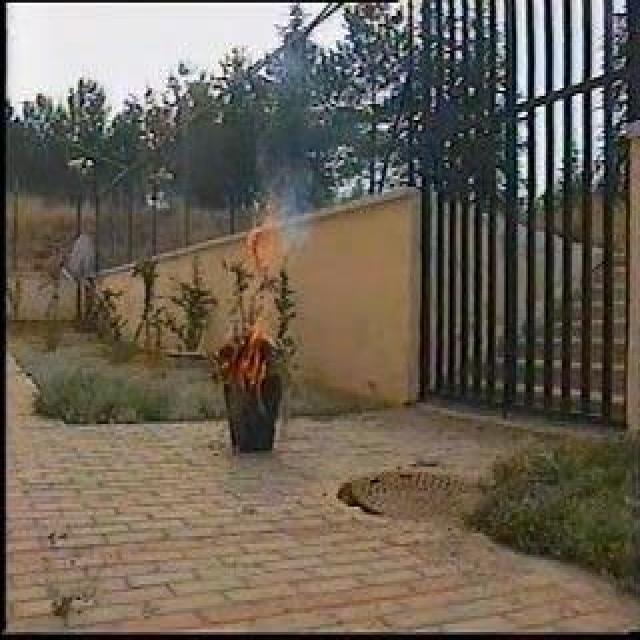fire: (208, 201, 280, 383)
